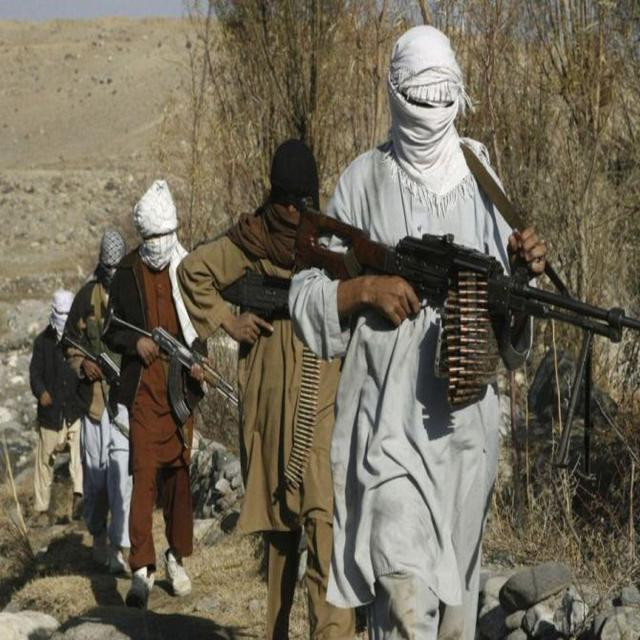Forest: (0, 0, 640, 640)
Militant: (286, 9, 534, 640), (176, 105, 373, 640), (100, 156, 222, 604), (71, 212, 153, 600), (20, 270, 94, 562)
